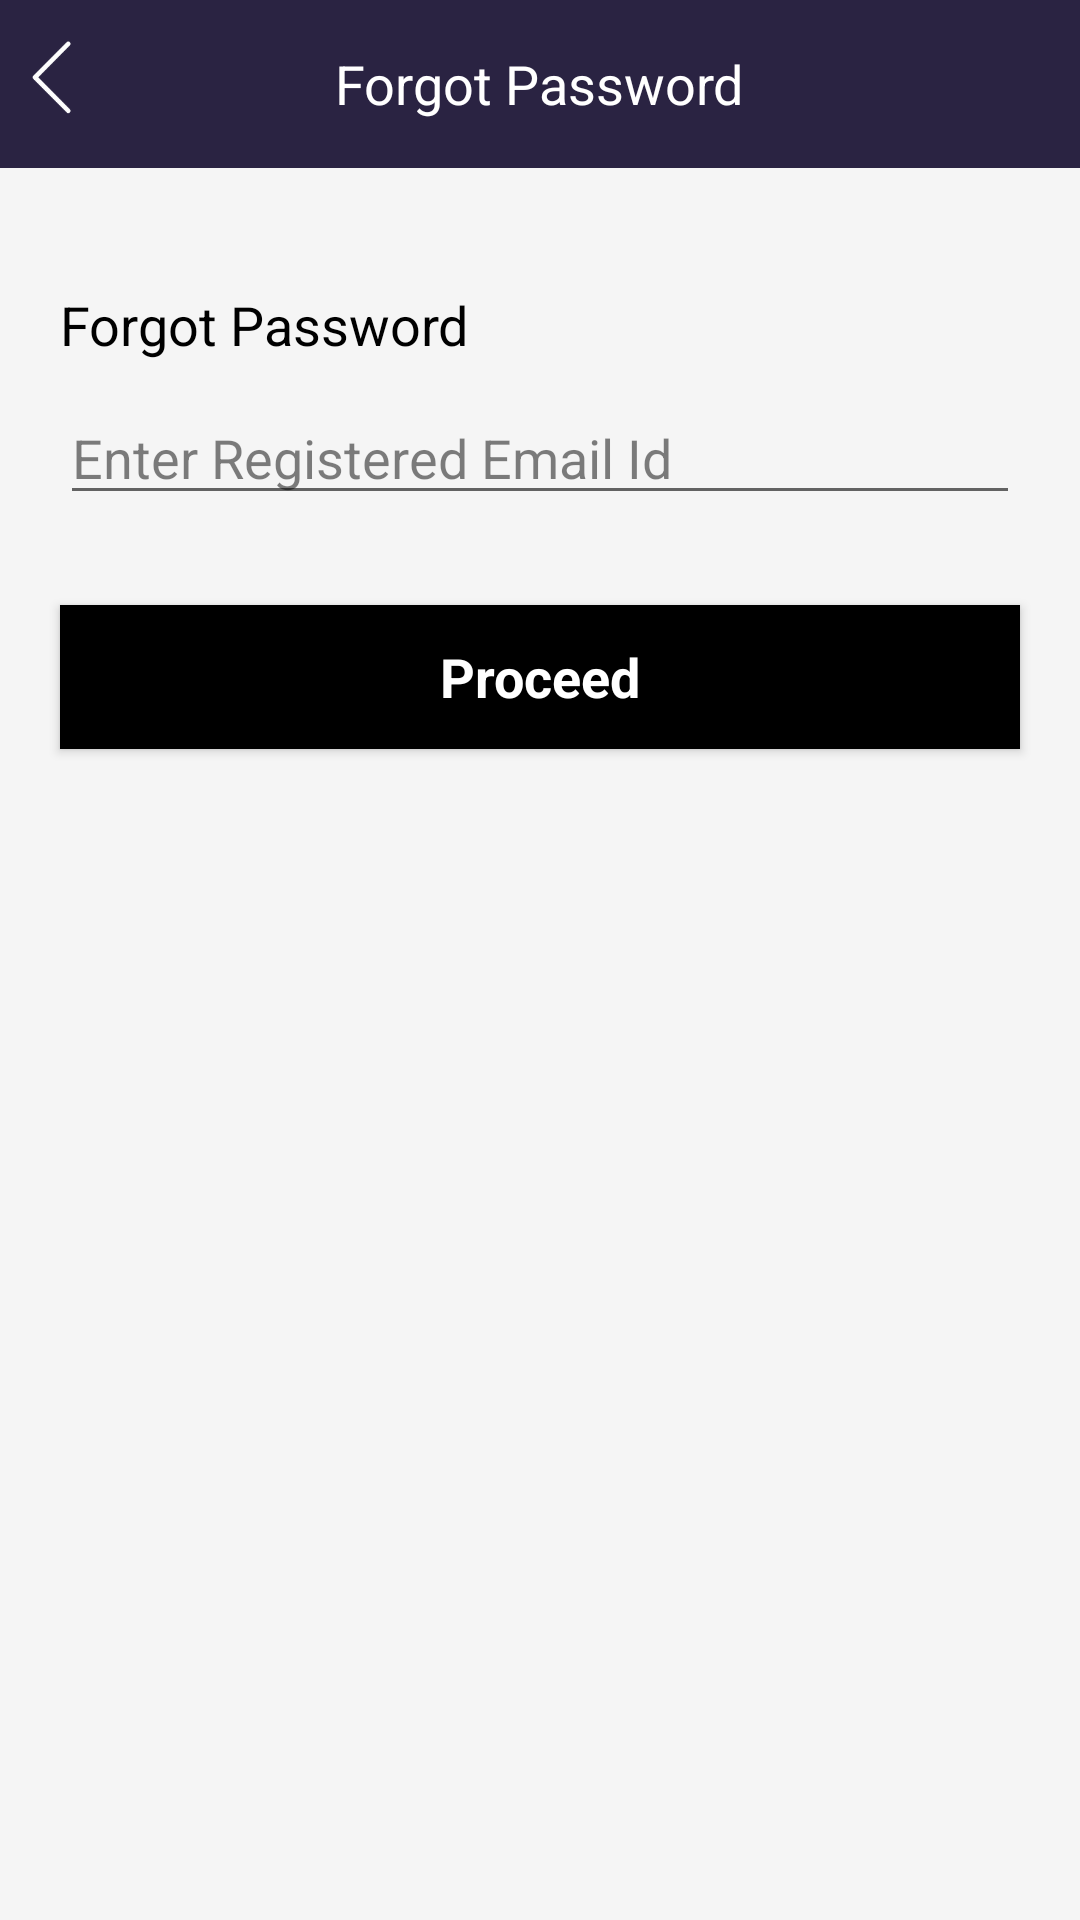

Icon click points for this 1080px×1920px phone screenshot, format (x=x, y=y):
back: (x=51, y=77)
